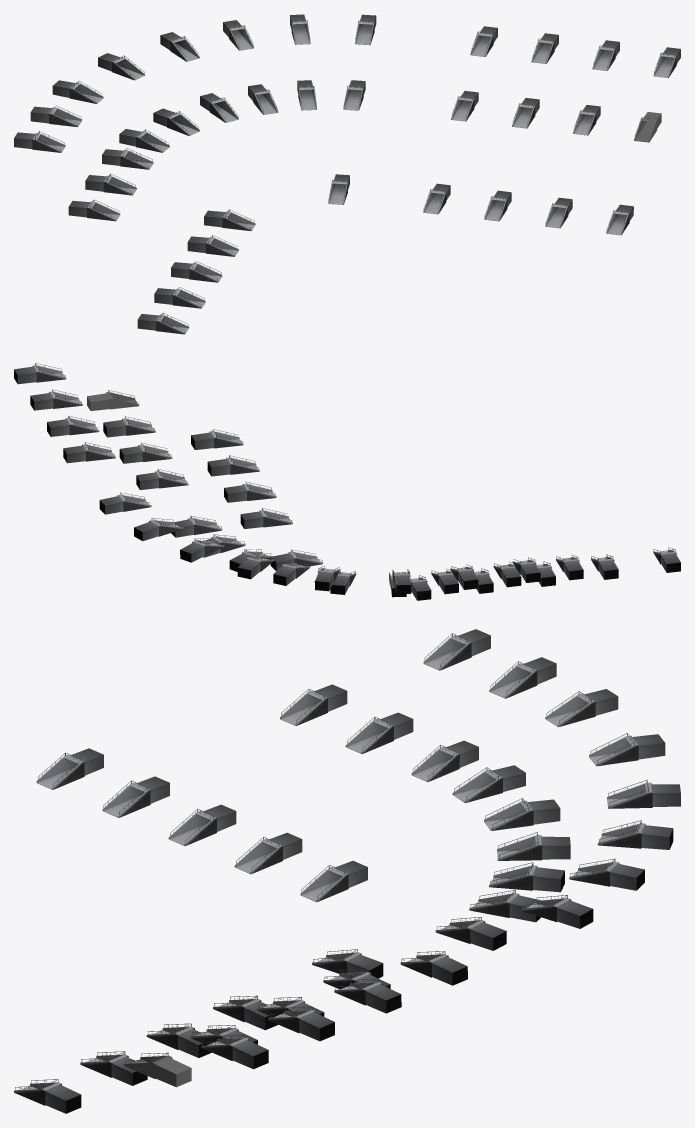
Rendered from Entrance_Left.fbx.
The picture shows the model from 3 angles, top to bottom: view 1: azimuth 30°, elevation 25°; view 2: azimuth 150°, elevation 25°; view 3: azimuth 270°, elevation 25°; orthographic projection. The views are drawn at different scales.
Parts seen in each view (by area): view 1: Entrance_Left; view 2: Entrance_Left; view 3: Entrance_Left.
Boxes of the visible parts, <box> form: Entrance_Left: <box>14,14,680,334</box>; Entrance_Left: <box>14,363,680,600</box>; Entrance_Left: <box>14,629,680,1113</box>.
Size of the model in its own units: 7758 by 1197 by 5058.
Materials: 2 (1 with a texture image).
